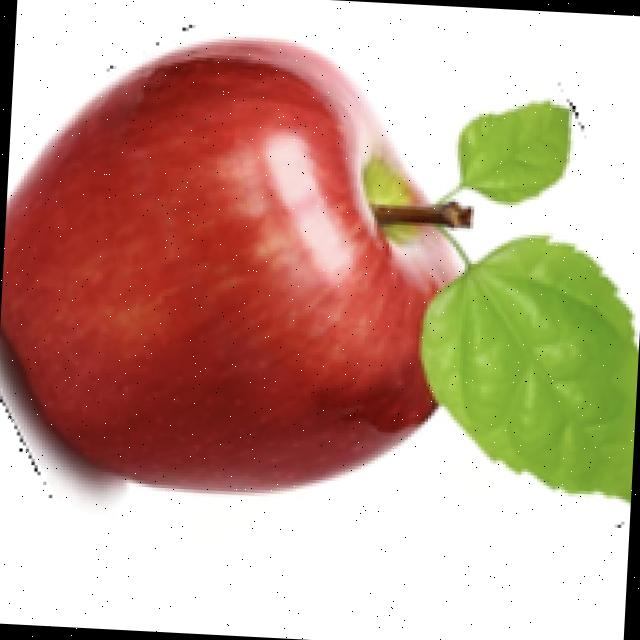apple: (0, 31, 640, 514)
